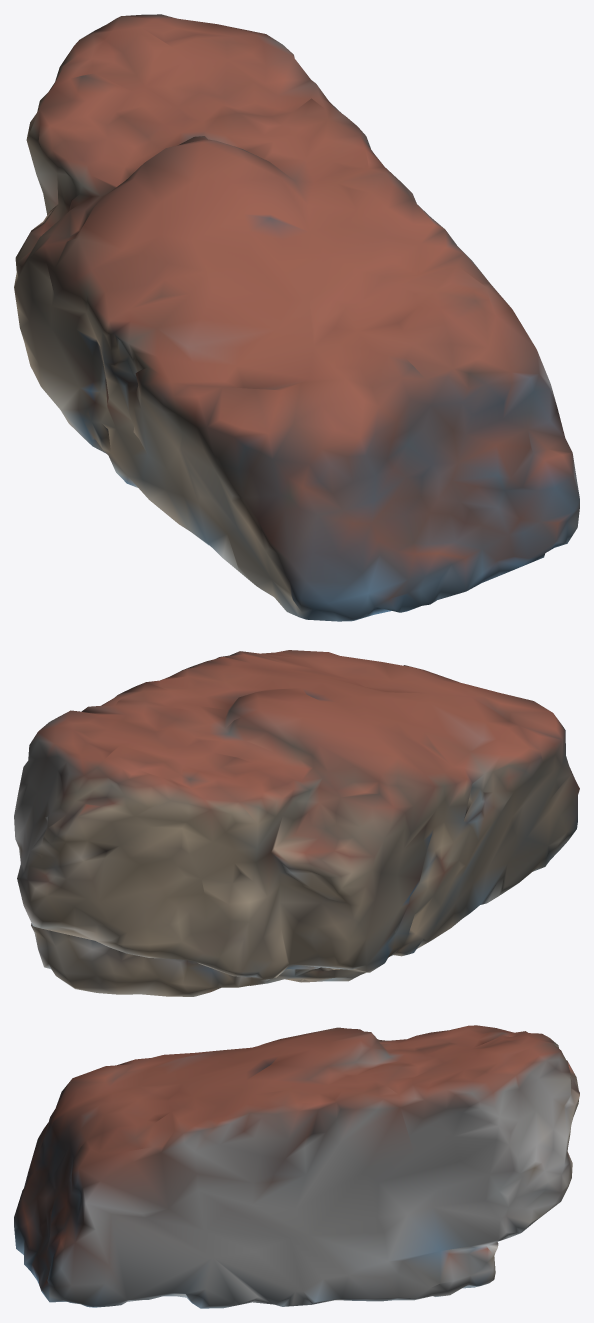
Rendered from rock_07.fbx.
The picture shows the model from 3 angles, top to bottom: view 1: azimuth 30°, elevation 25°; view 2: azimuth 150°, elevation 25°; view 3: azimuth 270°, elevation 25°; orthographic projection. The views are drawn at different scales.
Parts seen in each view (by area): view 1: rock_07; view 2: rock_07; view 3: rock_07.
Part boxes in pixels (<box>): rock_07: <box>14,14,579,621</box>; rock_07: <box>14,650,579,996</box>; rock_07: <box>14,1025,579,1308</box>.
Size of what is drawn, in the model's own units: 0.1685 by 0.1437 by 0.3201.
